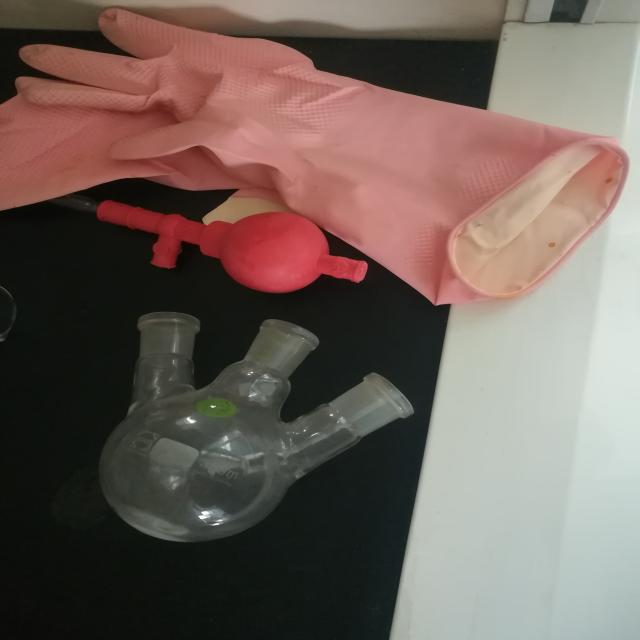Round_Bottom_Flask_Borosilicate_Glass_3_Neck: (69, 266, 440, 568)
